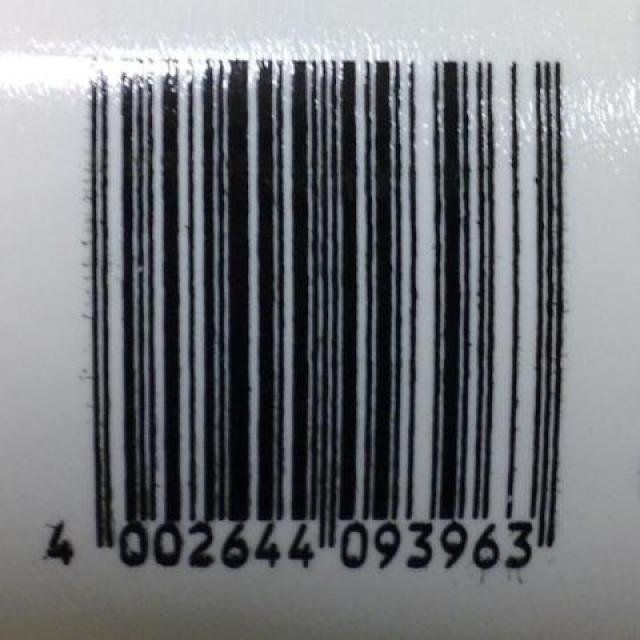Barcode: (17, 46, 607, 606)
